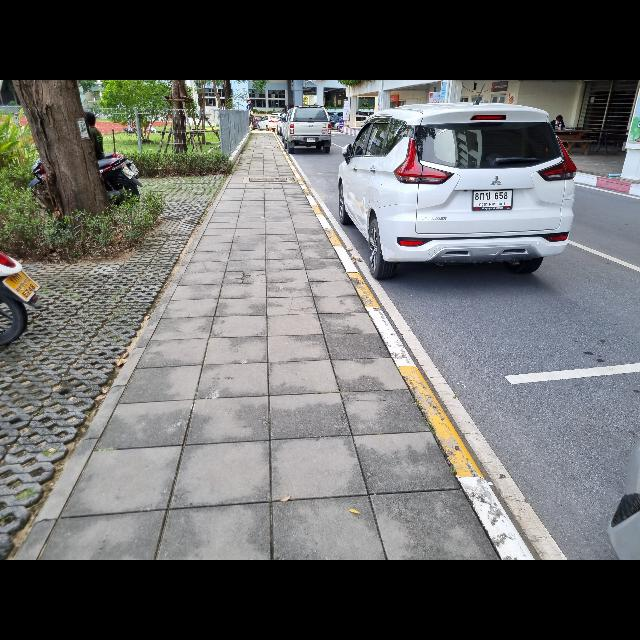licenseplate: (472, 190, 512, 210), (307, 138, 315, 142)
